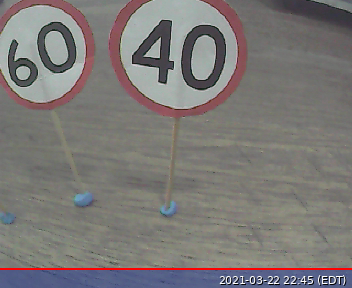Speed Limit 40: (106, 1, 247, 119)
Speed Limit 60: (1, 1, 96, 108)
